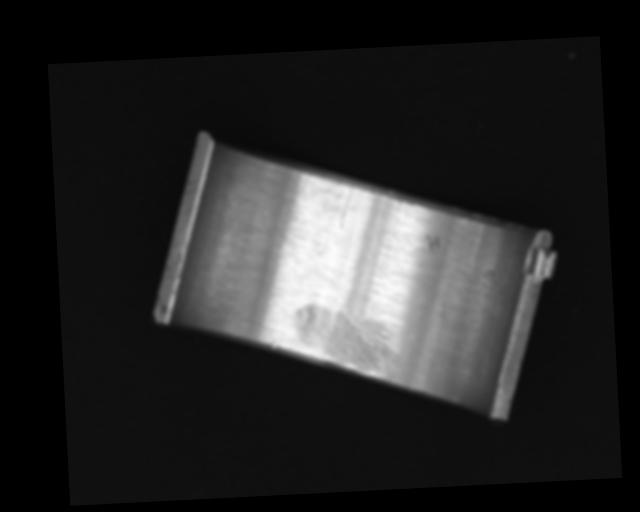bruise: (424, 231, 441, 252), (270, 340, 280, 349)
nick: (336, 183, 356, 229)
scratch: (291, 299, 400, 380)
